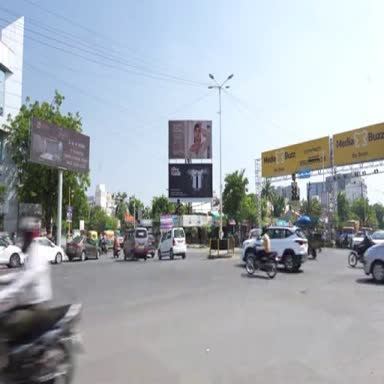Car: (267, 226, 308, 272), (158, 227, 186, 260), (33, 237, 64, 264), (123, 227, 148, 260), (67, 236, 100, 261), (363, 244, 383, 282), (0, 238, 25, 267), (352, 232, 365, 248), (148, 234, 156, 258), (372, 231, 383, 244), (115, 232, 124, 247), (249, 229, 261, 238)
